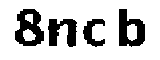8: (10, 5, 44, 49)
b: (113, 6, 149, 53)
c: (79, 16, 109, 52)
n: (48, 14, 79, 49)
